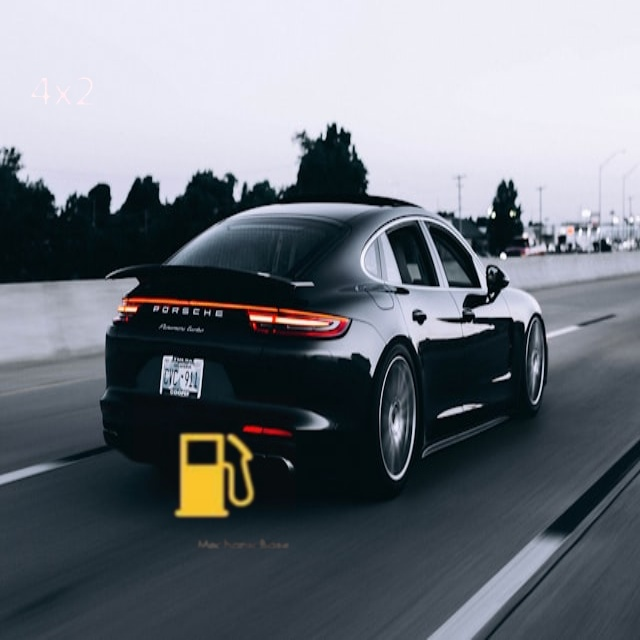symbol: (133, 395, 296, 558), (2, 32, 123, 153)
